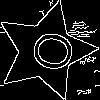O: (20, 25, 77, 75)
